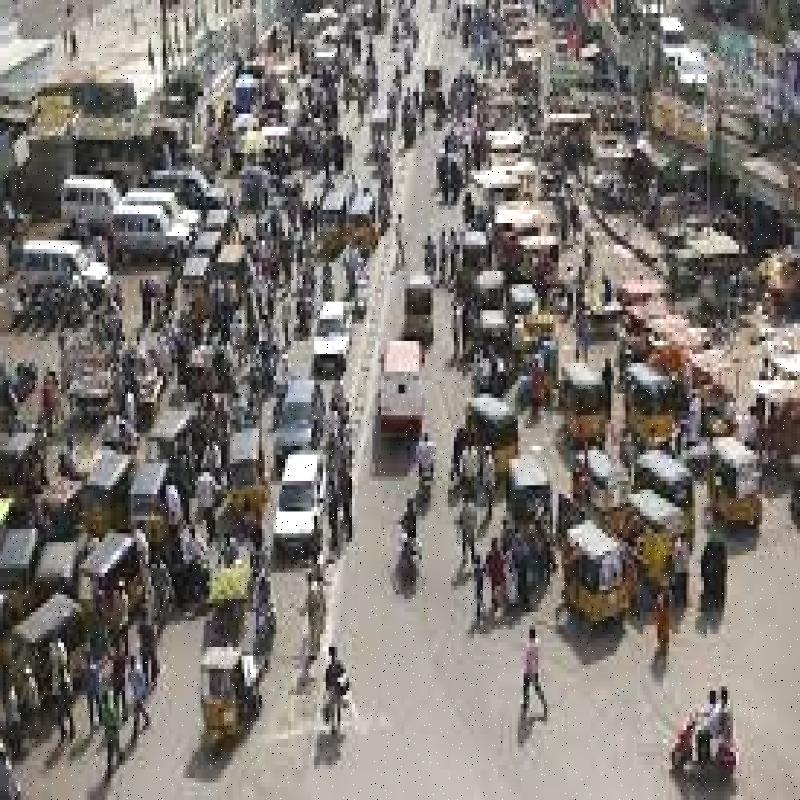car: (267, 450, 328, 571)
